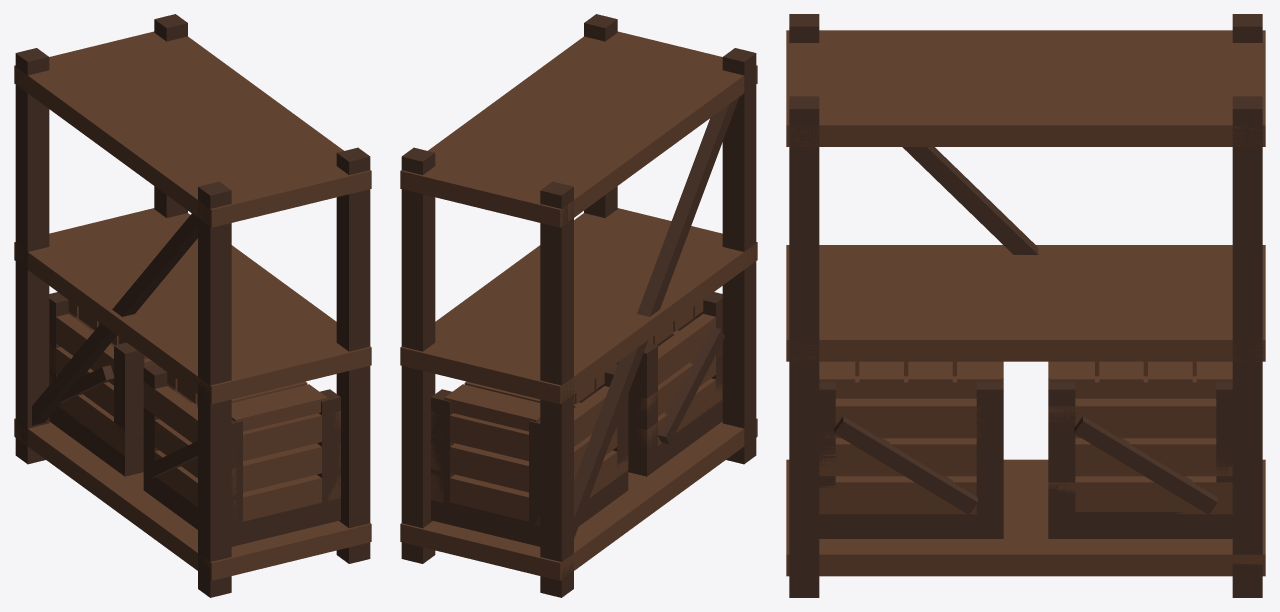
Rendered from CrateRack__Stack.fbx.
3 views of the same model, side by side, from view 1: azimuth 30°, elevation 25°; view 2: azimuth 150°, elevation 25°; view 3: azimuth 270°, elevation 25° (orthographic). The views are drawn at different scales.
Visible parts, largest first — view 1: CrateRack__Stack; view 2: CrateRack__Stack; view 3: CrateRack__Stack.
Boxes of the visible parts, bbox=[...] form: CrateRack__Stack: bbox=[14, 14, 371, 597]; CrateRack__Stack: bbox=[400, 14, 757, 597]; CrateRack__Stack: bbox=[786, 14, 1265, 597].
Size of the model in its own units: 75 by 180 by 160.
1 material, 1 textured.
